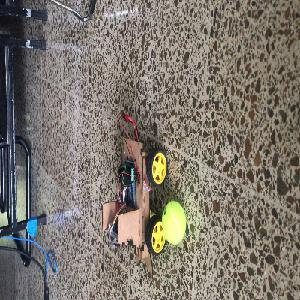Ball: (160, 200, 187, 245)
Robot: (103, 137, 167, 264)
